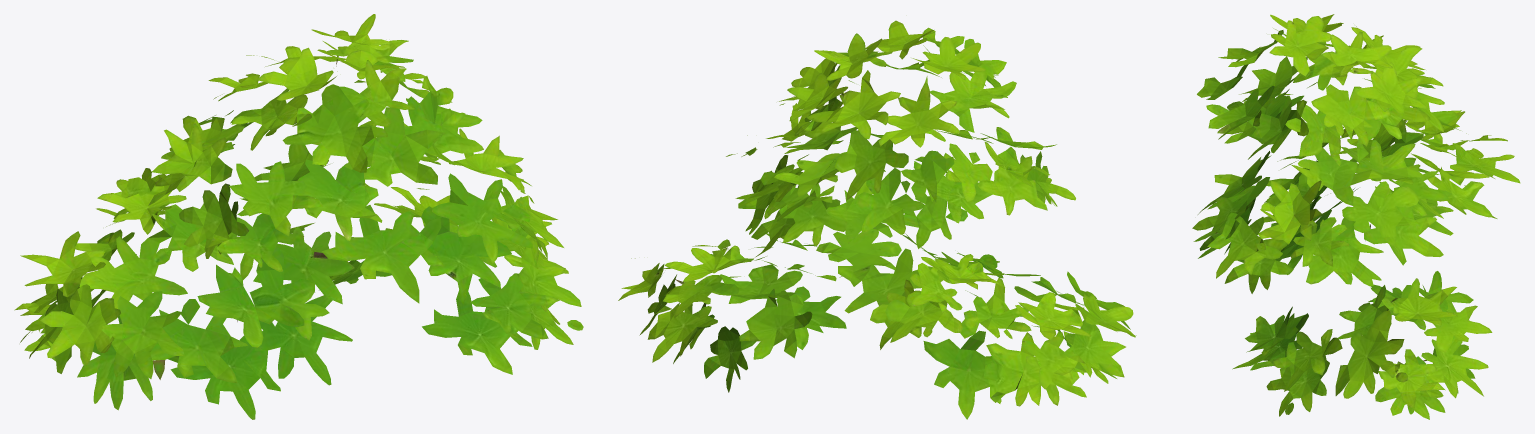
Rendered from leaf_sp.glb.
3 views of the same model, side by side, from view 1: azimuth 30°, elevation 25°; view 2: azimuth 150°, elevation 25°; view 3: azimuth 270°, elevation 25° (orthographic). The views are drawn at different scales.
Parts seen in each view (by area): view 1: geometry_0; view 2: geometry_0; view 3: geometry_0.
Part boxes in pixels (bbox=[...]): geometry_0: bbox=[14, 14, 583, 419]; geometry_0: bbox=[618, 20, 1136, 419]; geometry_0: bbox=[1192, 14, 1520, 419].
Size of the model in its own units: 0.4008 by 0.2453 by 0.2455.
Materials: 1 (1 with a texture image).
